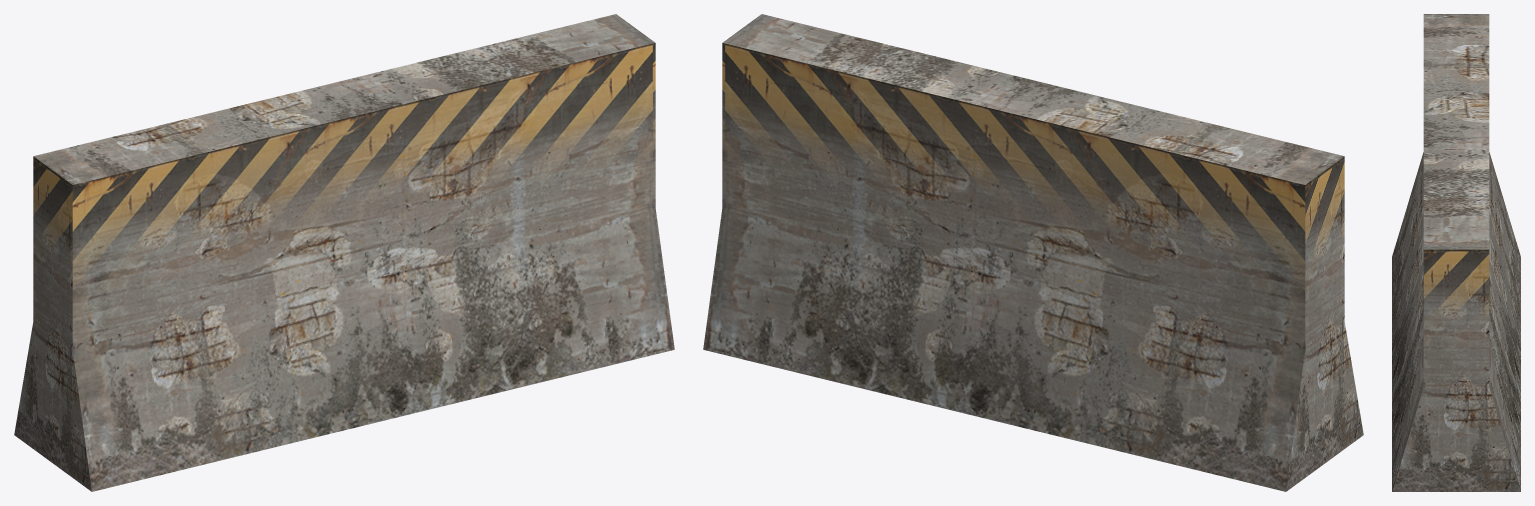
The model's file is RoadBlock01.fbx.
The picture shows the model from 3 angles, left to right: view 1: azimuth 30°, elevation 25°; view 2: azimuth 150°, elevation 25°; view 3: azimuth 270°, elevation 25°; orthographic projection. The views are drawn at different scales.
Parts seen in each view (by area): view 1: RoadBlock01; view 2: RoadBlock01; view 3: RoadBlock01.
Part boxes in pixels (x1,y1,x2,y2): RoadBlock01: [14, 14, 674, 491]; RoadBlock01: [703, 14, 1363, 491]; RoadBlock01: [1392, 14, 1520, 491].
Size of the model in its own units: 102 by 48.83 by 23.5.
